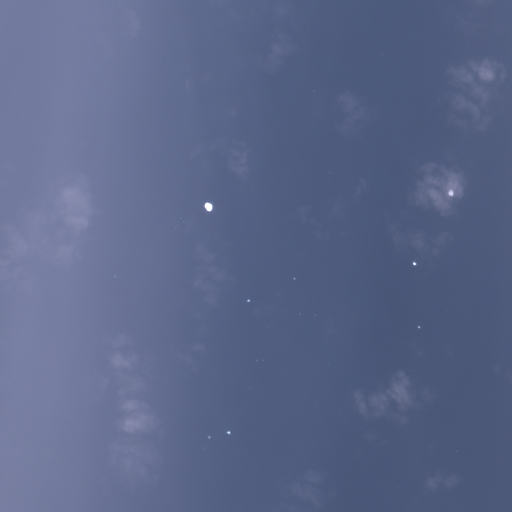Iceberg: (204, 202, 212, 211), (448, 190, 453, 195), (412, 261, 416, 265), (226, 431, 230, 434), (417, 326, 420, 328), (293, 277, 295, 279), (247, 299, 249, 301), (208, 436, 210, 438)
